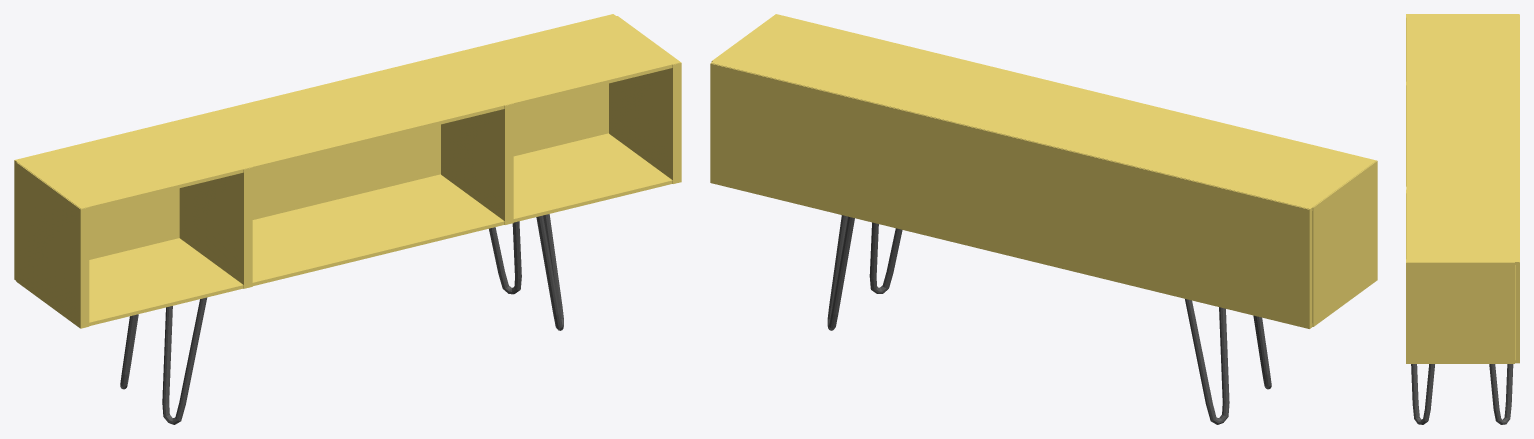
Rendered from Shelf_14.fbx.
3 views of the same model, side by side, from view 1: azimuth 30°, elevation 25°; view 2: azimuth 150°, elevation 25°; view 3: azimuth 270°, elevation 25° (orthographic). The views are drawn at different scales.
Visible parts, largest first — view 1: Shelf_14; view 2: Shelf_14; view 3: Shelf_14.
Boxes of the visible parts, x1,y1,x2,y2 form: Shelf_14: (14, 14, 681, 424); Shelf_14: (710, 14, 1377, 424); Shelf_14: (1406, 14, 1519, 424).
Bounding box in the file's own units: 258 × 49.94 × 101.
